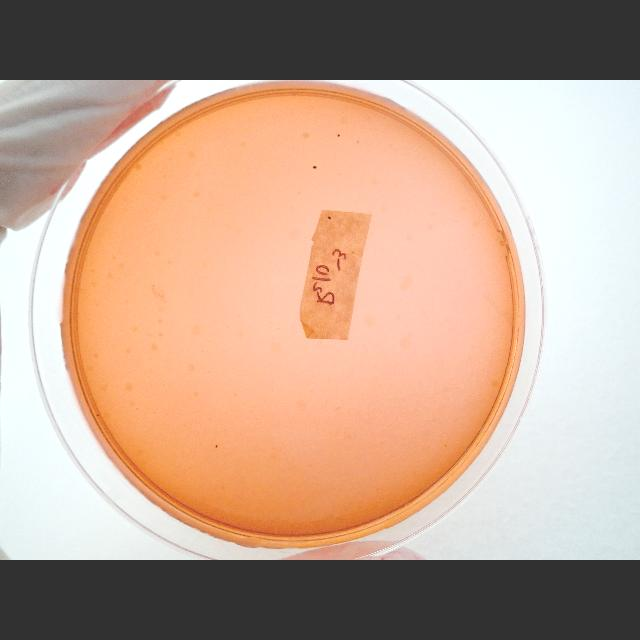colony: (312, 163, 318, 170), (337, 134, 341, 138), (327, 216, 331, 220), (96, 413, 100, 417), (216, 444, 218, 448)
